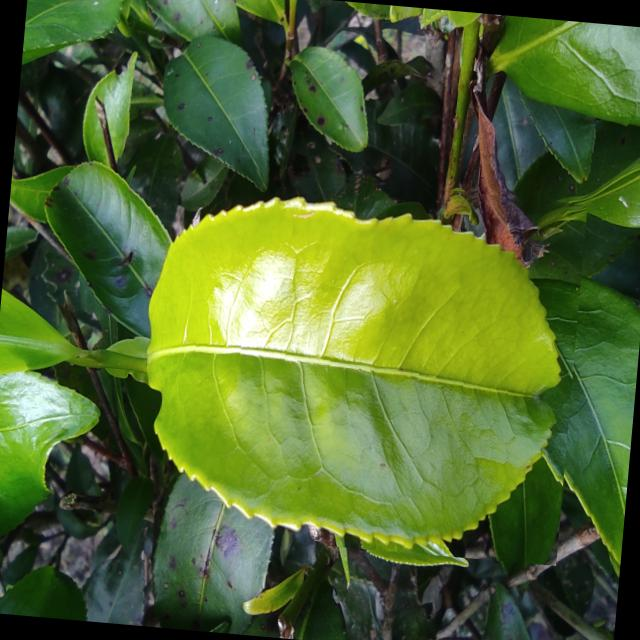Category B(2-4 days): (111, 157, 588, 566)
